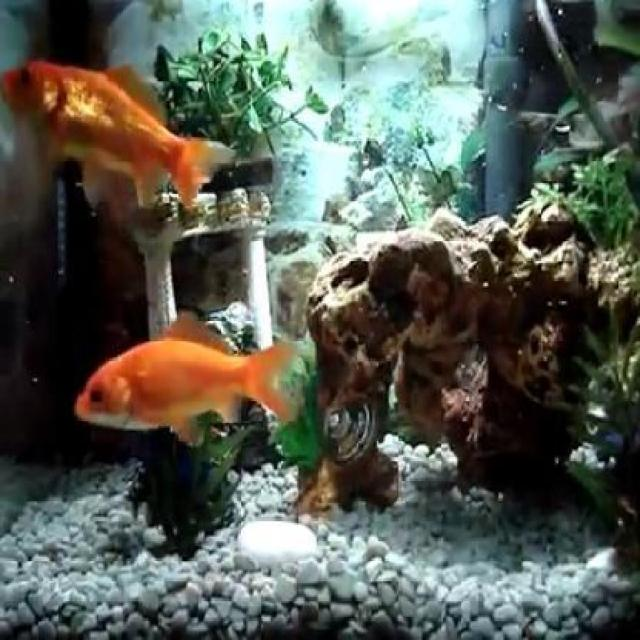GoldFish: (1, 58, 234, 214), (74, 305, 292, 446)
